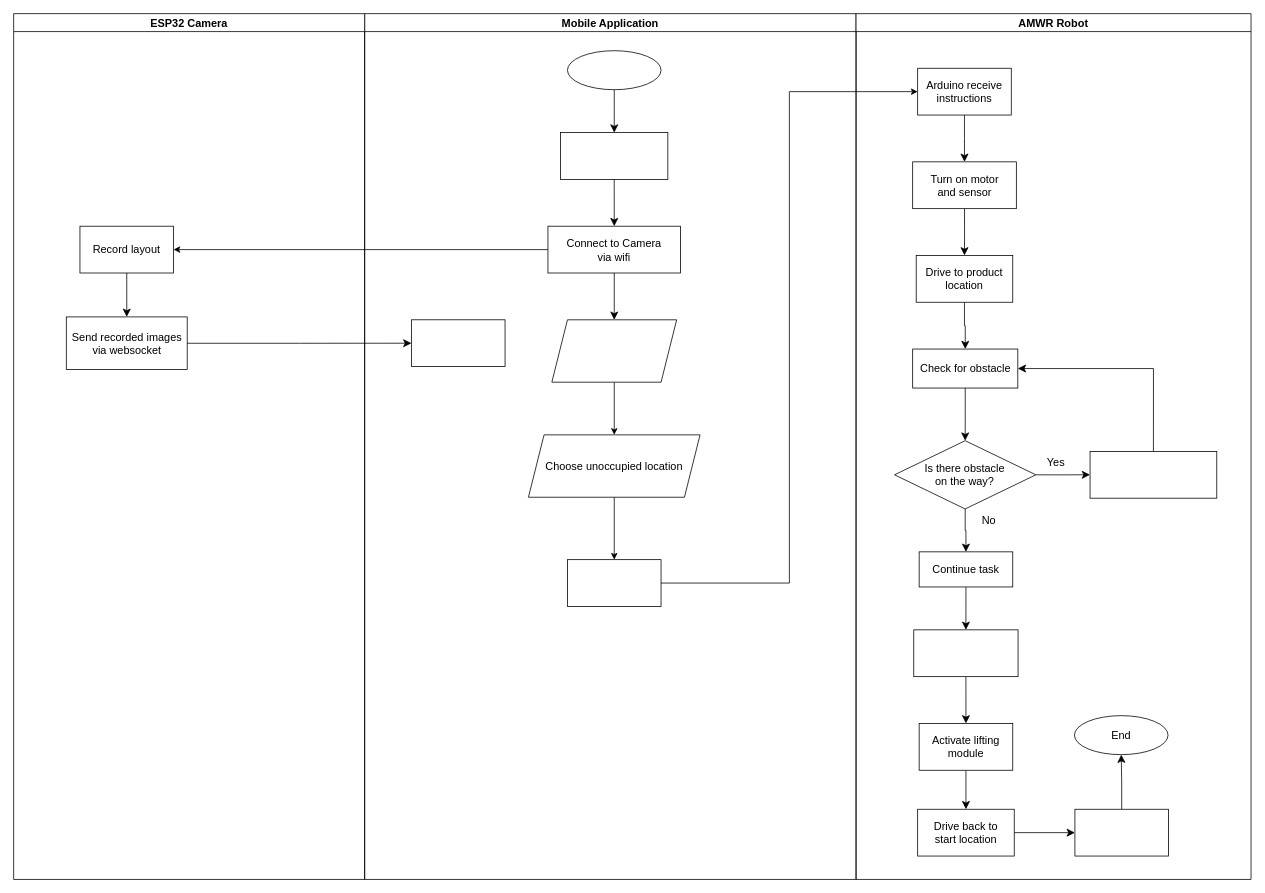
Image size: 1265x893. Some labels were removed from this diagram. Each missing label, with the centre of its shape:
Arrive at pickup or drop-off location: pixel 965 653
Connect to robot via bluetooth: pixel 614 155
Display camera images: pixel 458 343
Observe product location via camera: pixel 614 350
Send robot instruction: pixel 614 582
Start: pixel 614 70
Stop and notify operator to remove obstacle: pixel 1153 474
Turn off motor and sensor: pixel 1121 832
